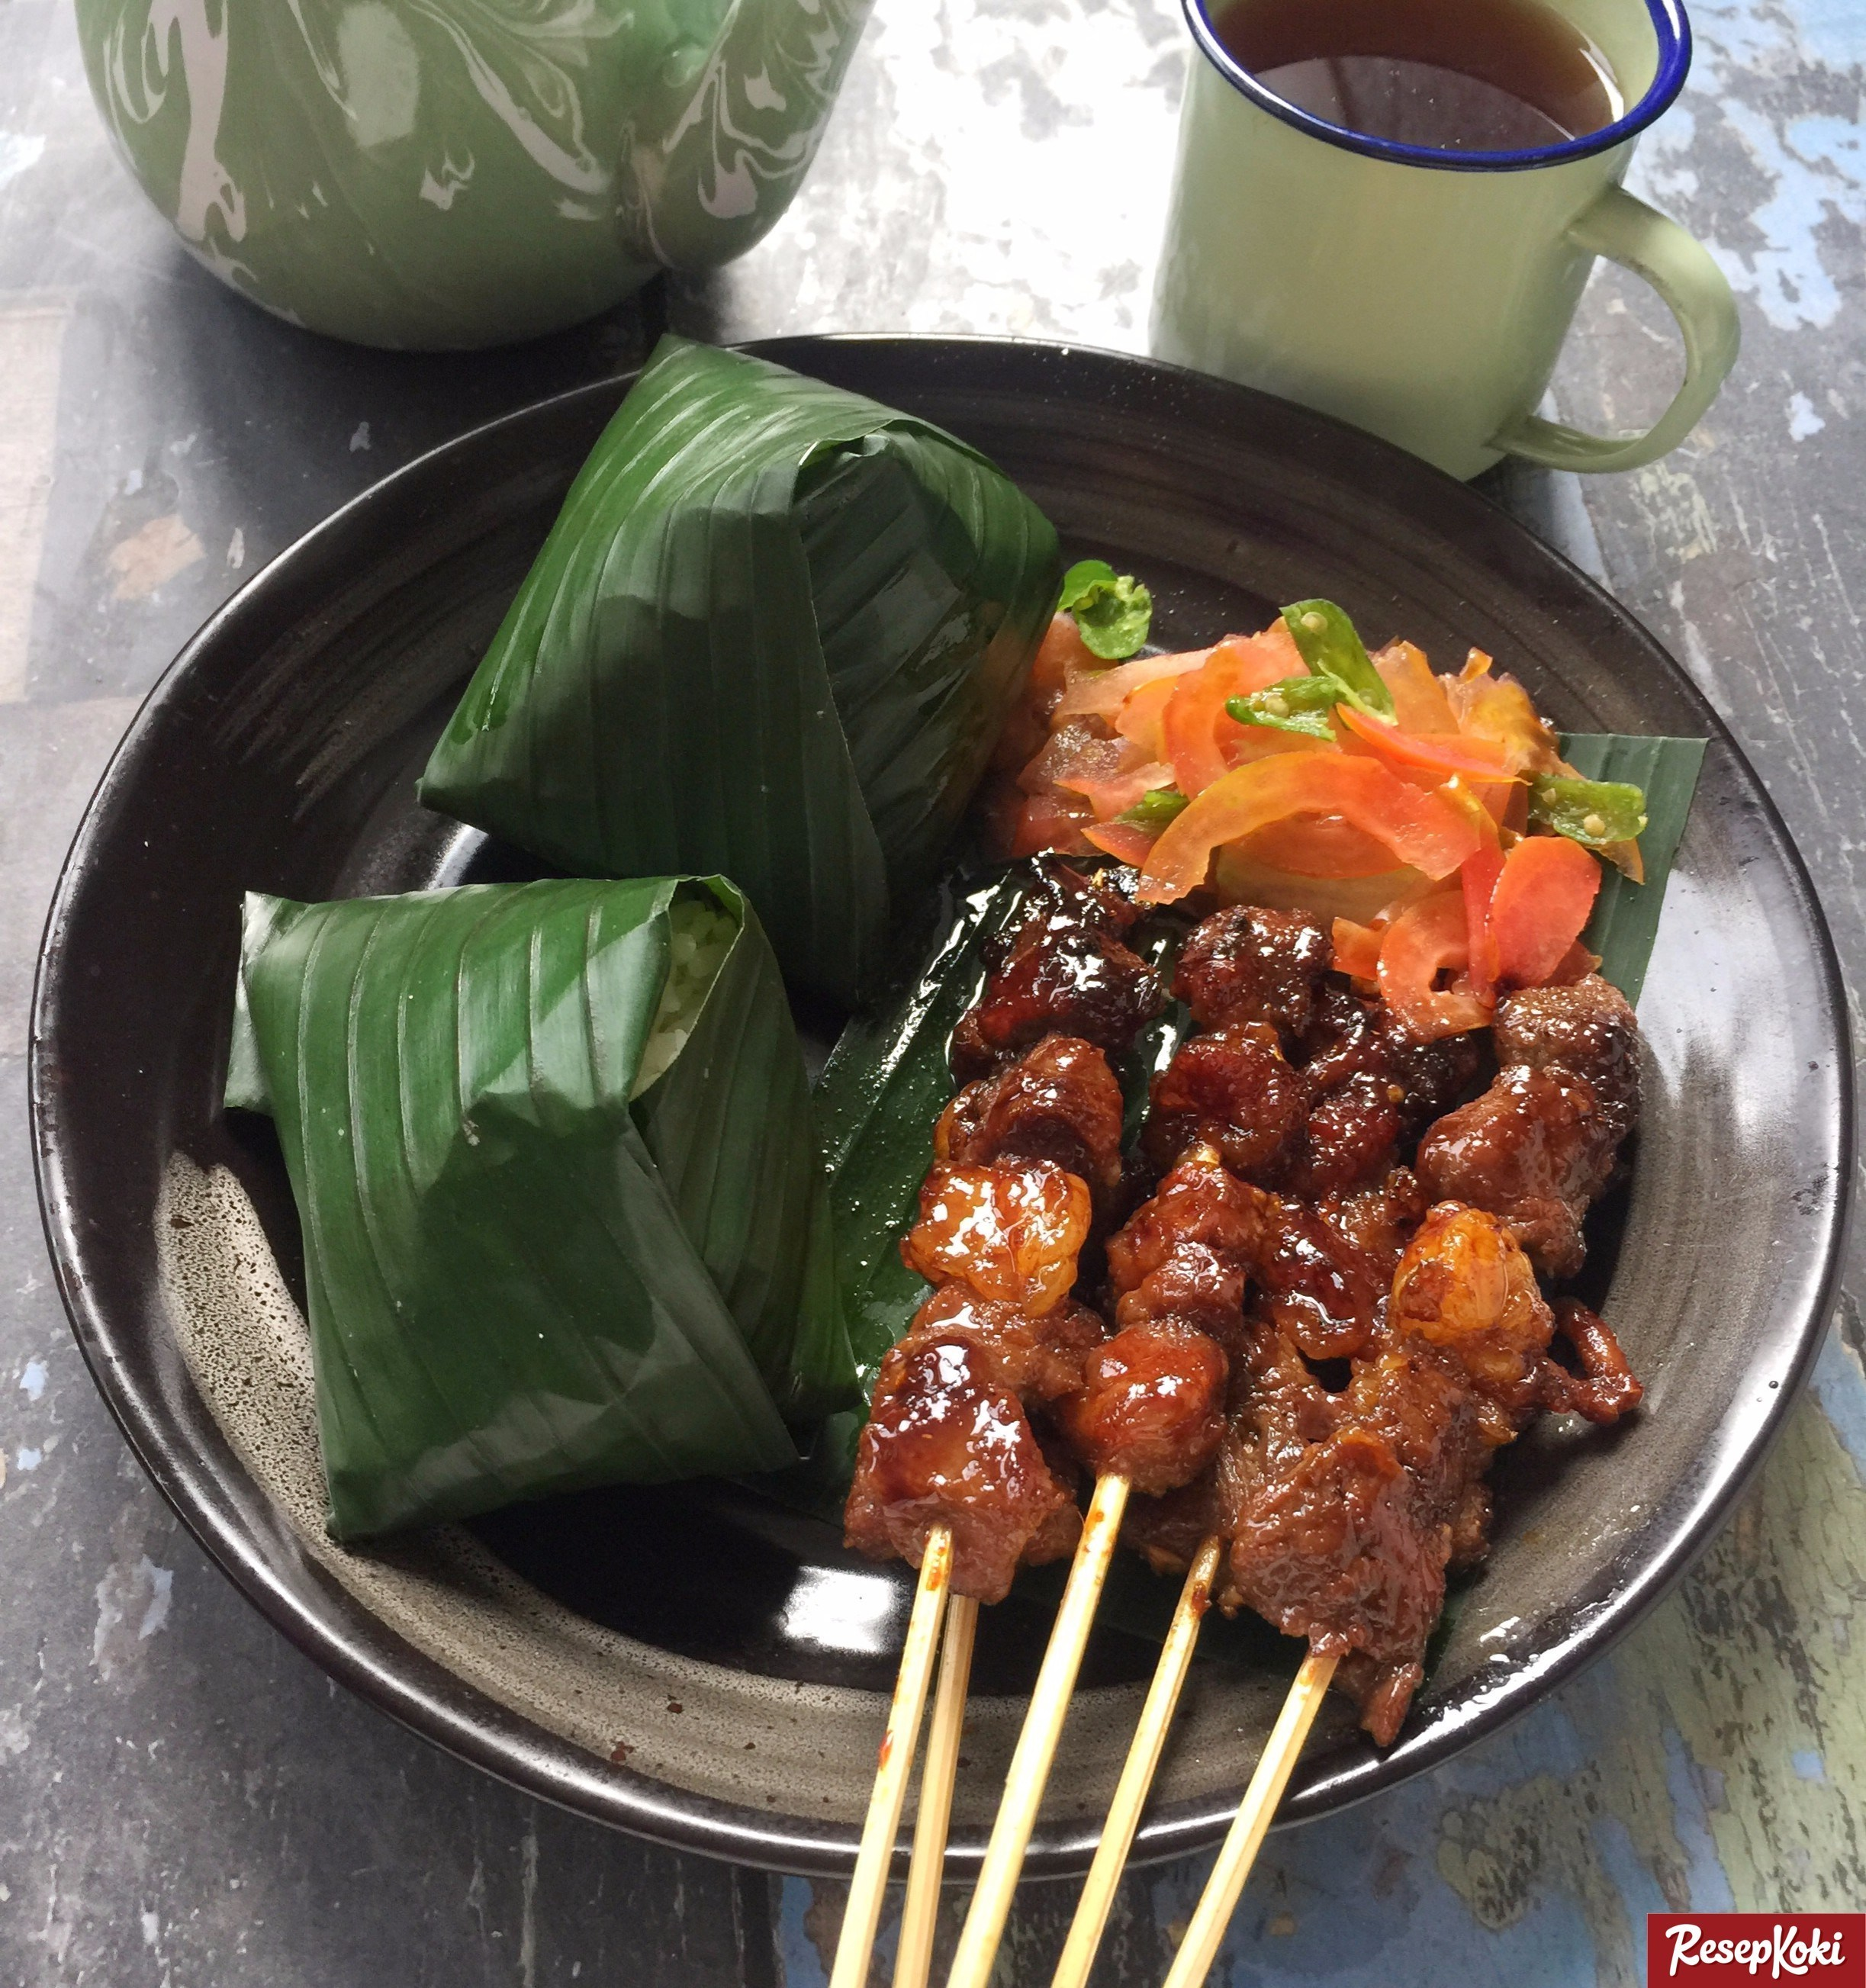sate: (815, 885, 1764, 1727)
